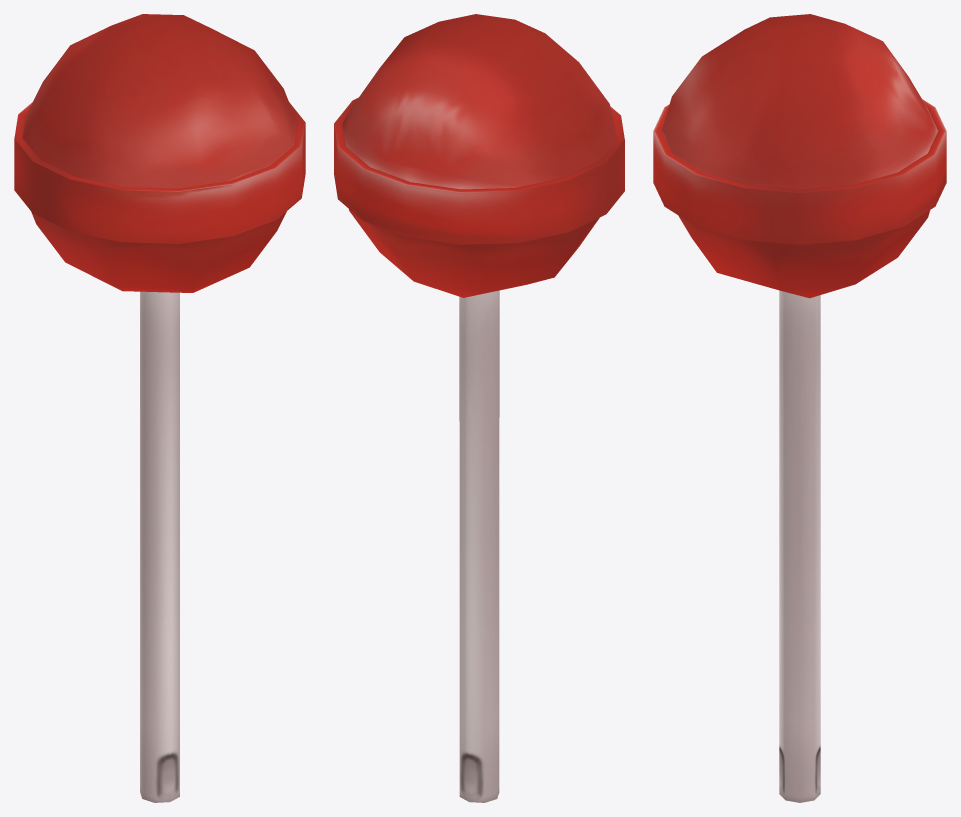
The model's file is Lolipop3.glb.
3 renders of one model, left to right at view 1: azimuth 30°, elevation 25°; view 2: azimuth 150°, elevation 25°; view 3: azimuth 270°, elevation 25°, orthographic.
Visible parts, largest first — view 1: Object_8.001; view 2: Object_8.001; view 3: Object_8.001.
Part boxes in pixels (x1,y1,x2,y2): Object_8.001: (14,14,305,802); Object_8.001: (334,14,624,802); Object_8.001: (653,14,946,802).
Size of the model in its own units: 0.0752 by 0.2174 by 0.0752.
Materials: 1 (1 with a texture image).
